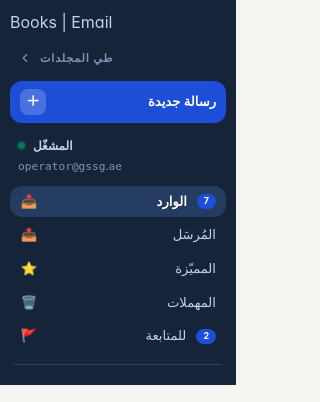
FolderRail personal folders after the Outlook cutover › shows its header first only while expanded in ar
Click the button "طي المجلدات".
click(118, 58)  # box [10,44,226,73]
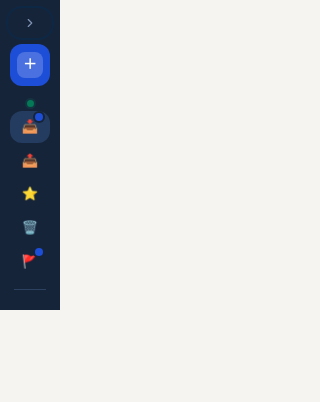
Expected: the text with test id "rail-header" is gone
Click the button named "توسيع المجلدات".
click(30, 23)  # box [10,10,50,36]
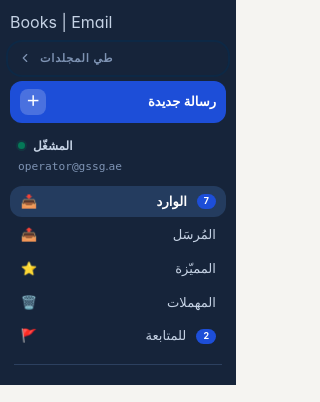
Expected: the text "Books | Email" is shown, [10,12,112,32]
